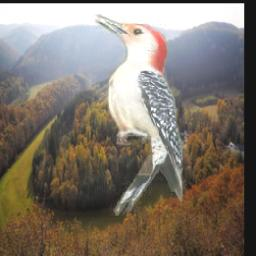Woodpecker: (92, 15, 183, 217)
